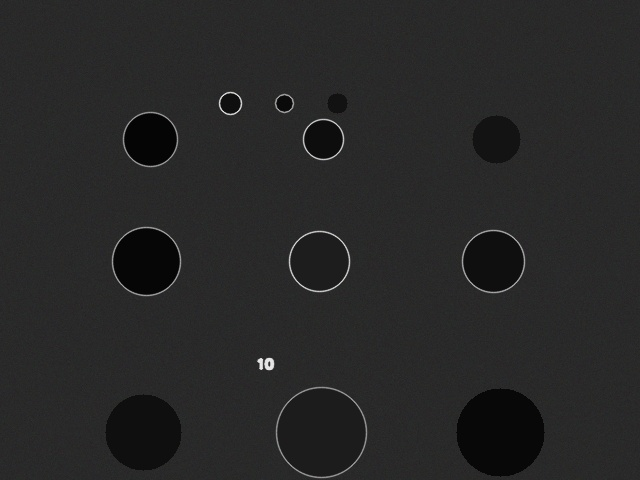hole: (276, 387, 366, 477), (456, 388, 544, 476), (105, 394, 181, 470), (112, 227, 180, 295), (462, 230, 524, 292), (289, 231, 349, 291), (123, 112, 177, 166), (472, 115, 520, 163), (303, 119, 343, 159), (219, 92, 241, 114), (327, 93, 347, 113), (275, 94, 293, 112)
